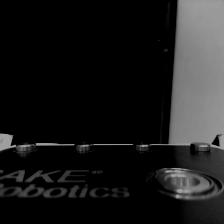Door Handle: (148, 38, 168, 60)
